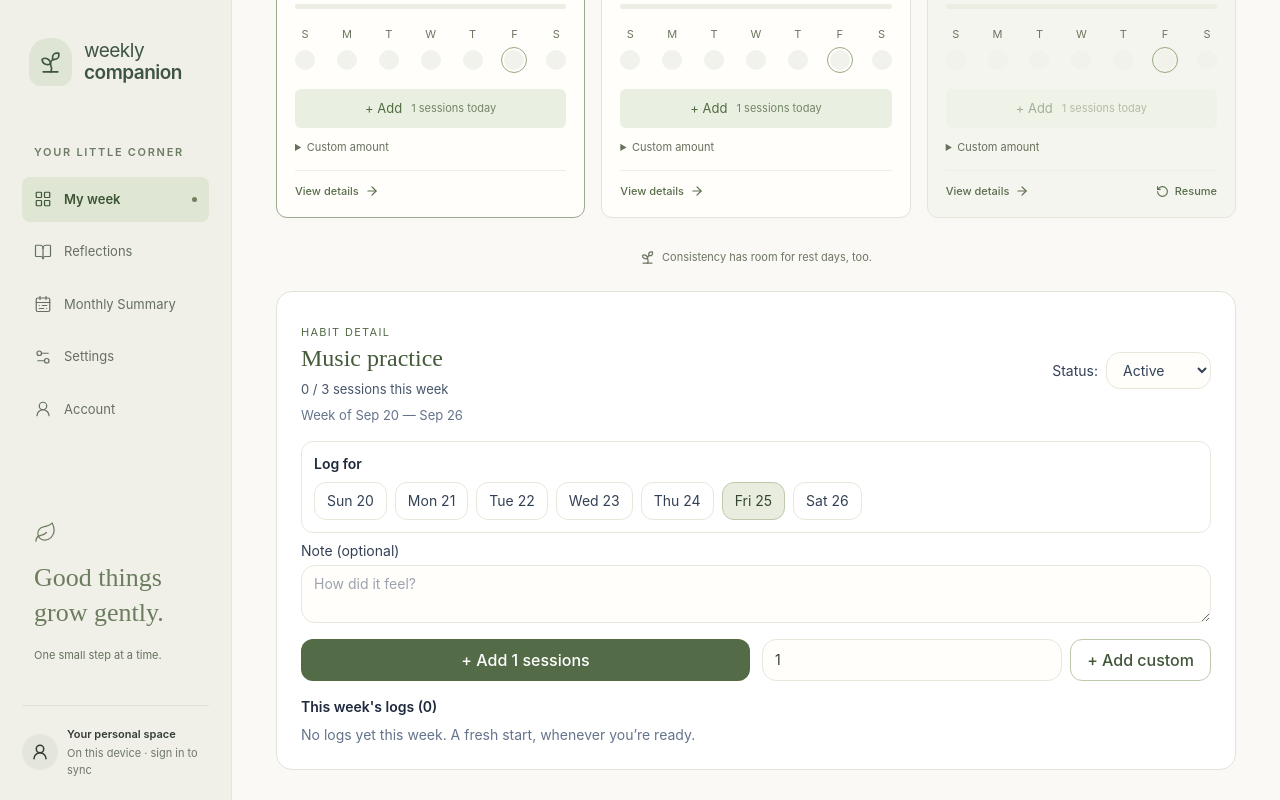
Test: App layout and navigation › shows habit detail logs and supports deletion
(page scrolled)
Expected: the button with aria-label "Select log date" is shown, top-left (314, 482), bottom-right (387, 520)
Click the button "+ Add 1 sessions". click: (526, 660)
box: top-left (301, 639), bottom-right (750, 681)
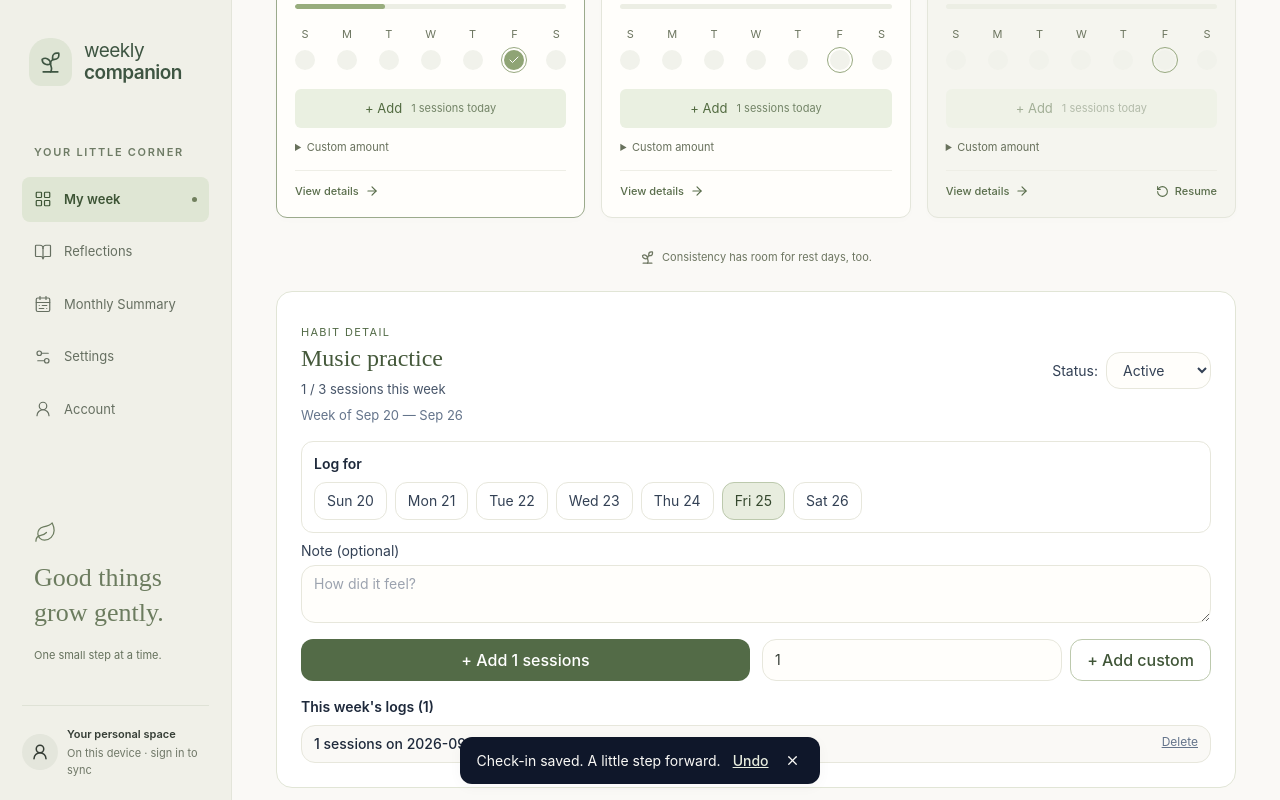
Expected: the text "1 sessions on 2026-09-25" is shown, top-left (314, 734), bottom-right (489, 754)
Click the button "Delete". click: (1180, 742)
box: top-left (1162, 734), bottom-right (1198, 750)
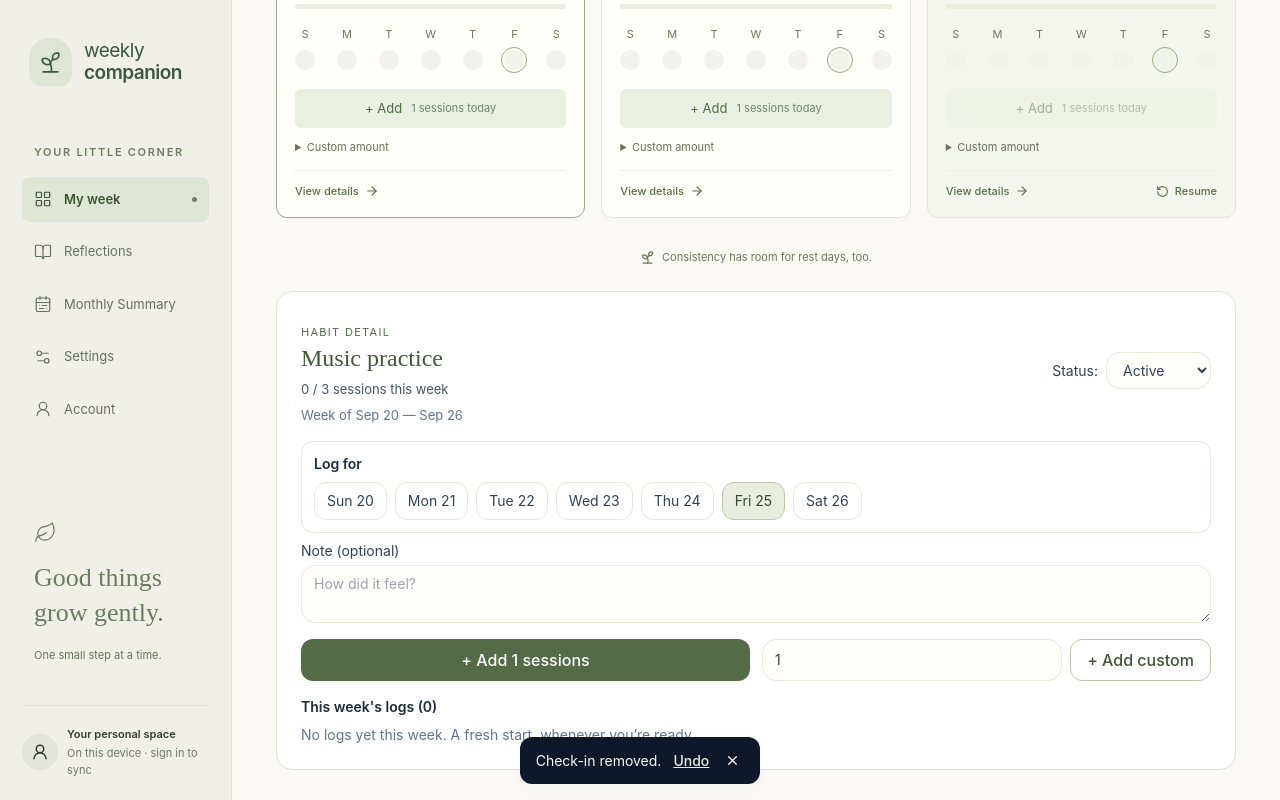
Expected: the text "No logs yet this week. A fresh start, whenever you’re ready." is shown, top-left (301, 726), bottom-right (695, 743)
